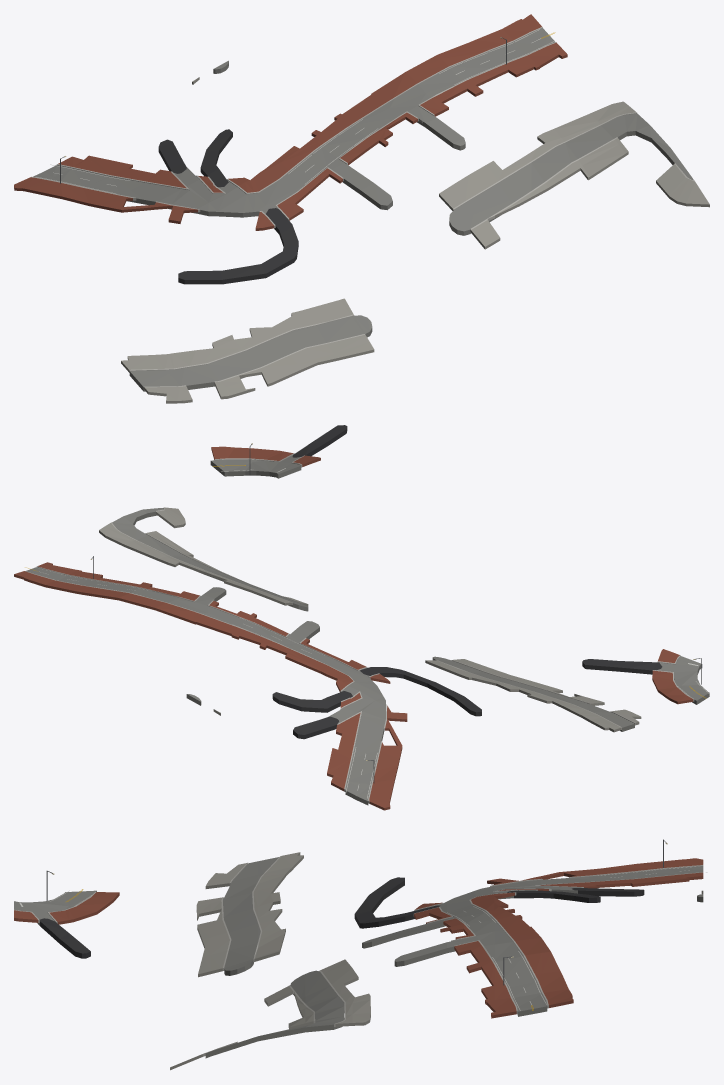
3 renders of one model, top to bottom at view 1: azimuth 30°, elevation 25°; view 2: azimuth 150°, elevation 25°; view 3: azimuth 270°, elevation 25°, orthographic. The views are drawn at different scales.
Bounding box in the file's own units: 150 × 47.19 × 147.
